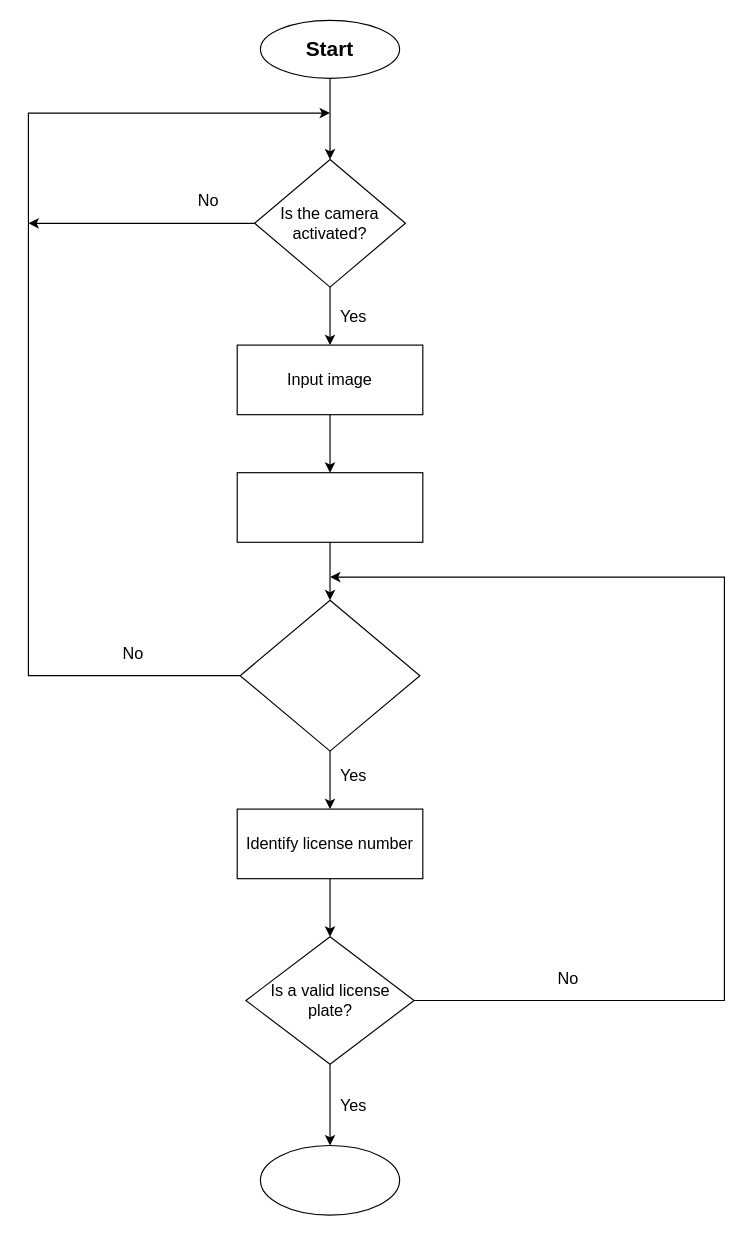
Some shapes in this 754 by 1235 pixel diagram are drawn without their labels. Each missing label, with the centre of its shape:
"End" goes at point 329,1179.
"Is there any license plate?" goes at point 329,675.
"Locate license plates" goes at point 329,507.
